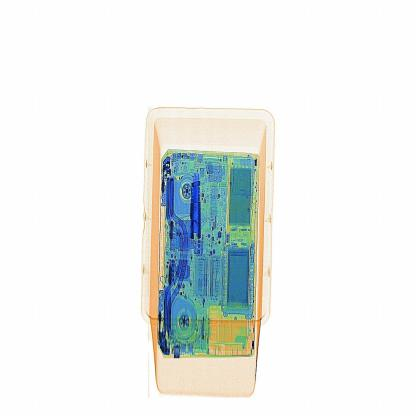pliers: (182, 167, 212, 252)
